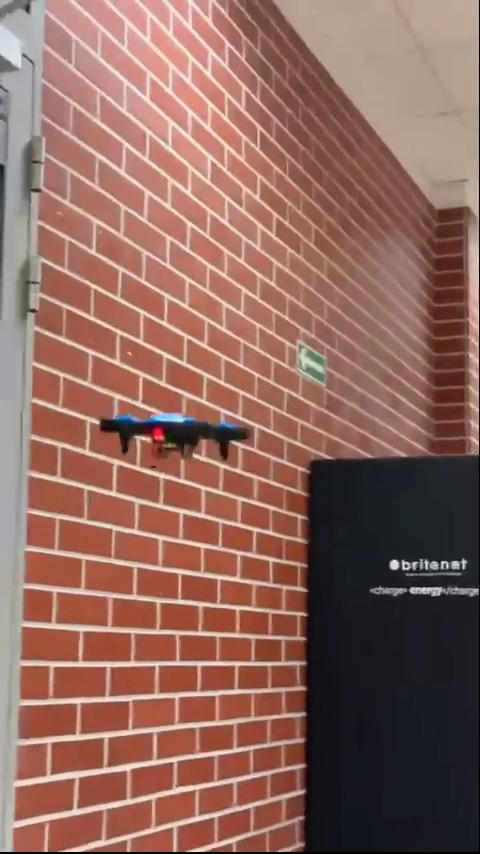drone: (103, 417, 255, 467)
